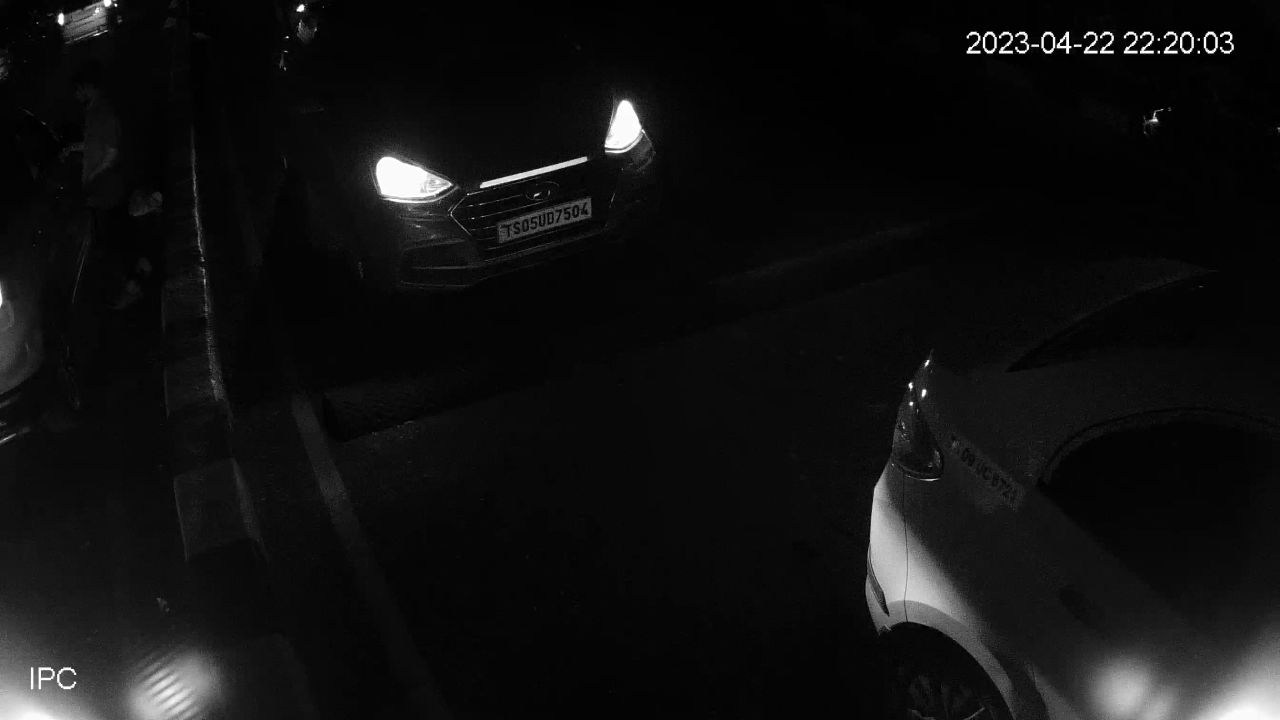license_plate: (493, 191, 596, 248)
